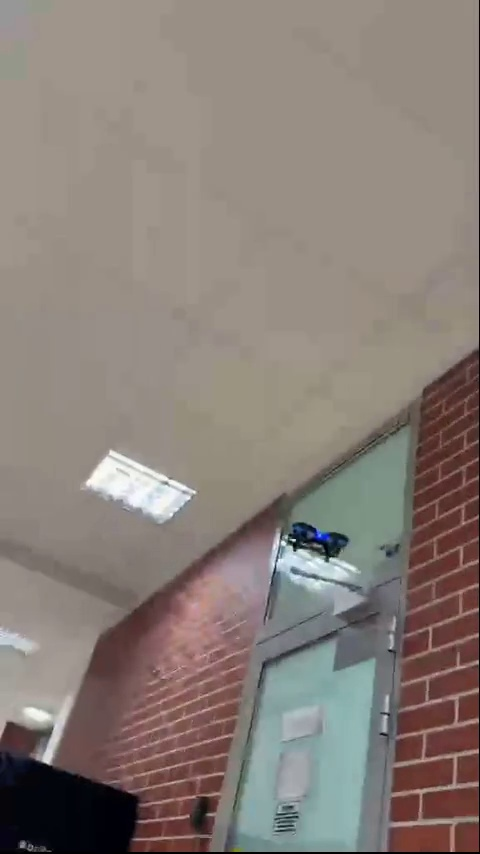drone: (283, 523, 349, 563)
